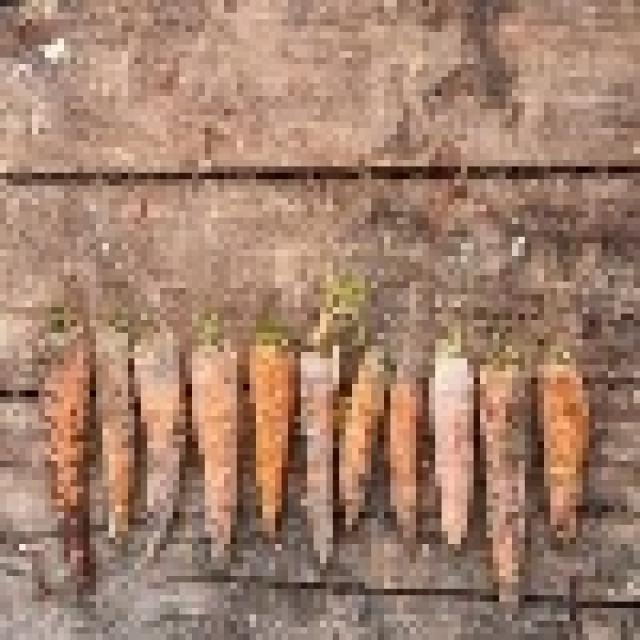Stale_Carrot: (15, 296, 631, 585)
